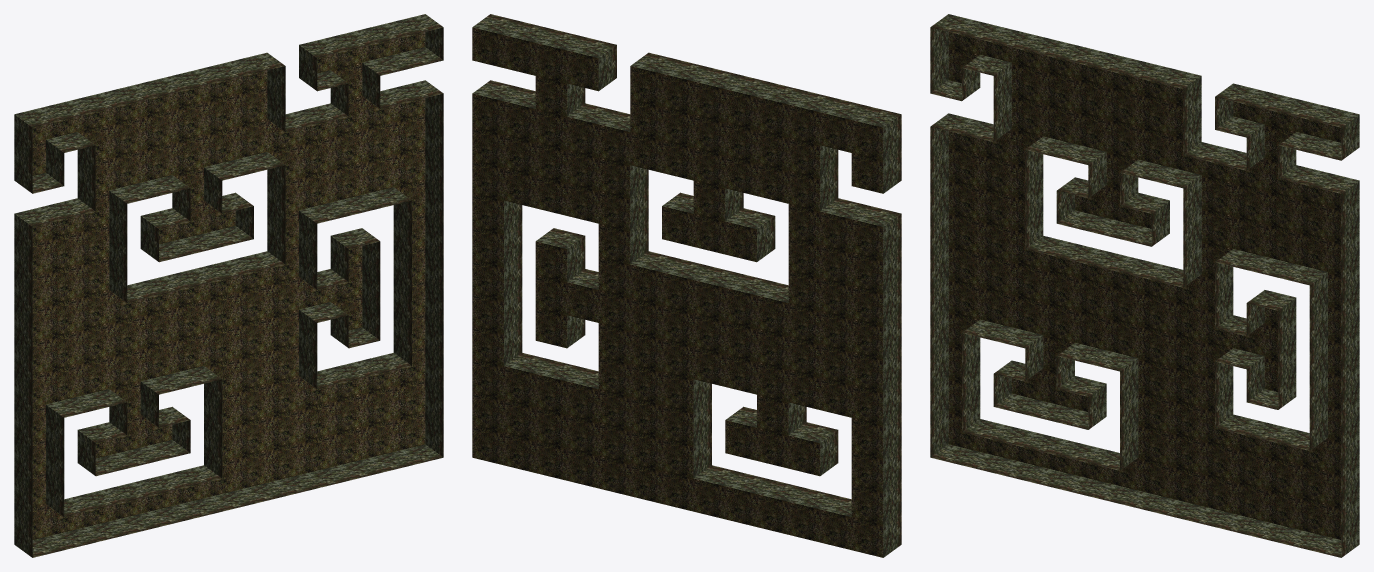
The model's file is floresta.obj.
The picture shows the model from 3 angles, left to right: view 1: azimuth 30°, elevation 25°; view 2: azimuth 150°, elevation 25°; view 3: azimuth 330°, elevation 25°; orthographic projection.
Bounding box in the file's own units: 13 × 13 × 1.
